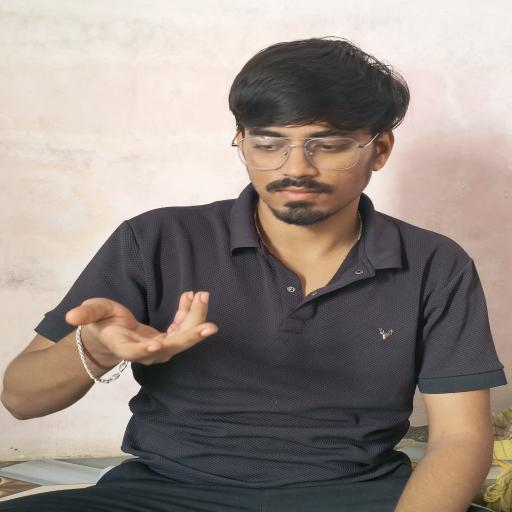Help: (27, 267, 244, 436)
